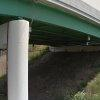Bridge: (2, 0, 96, 40)
